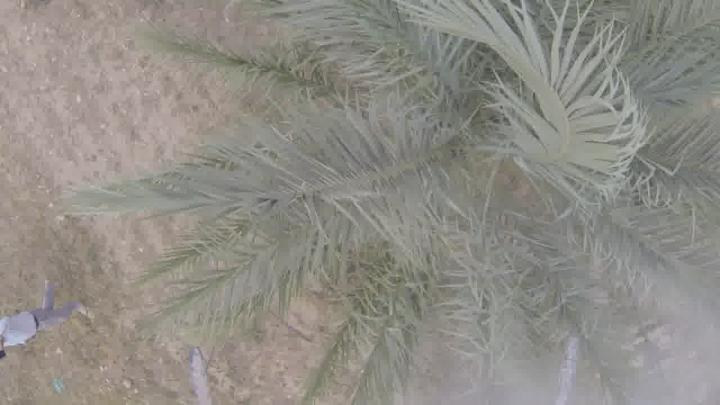Date-Palm-Crown: (294, 0, 704, 356)
